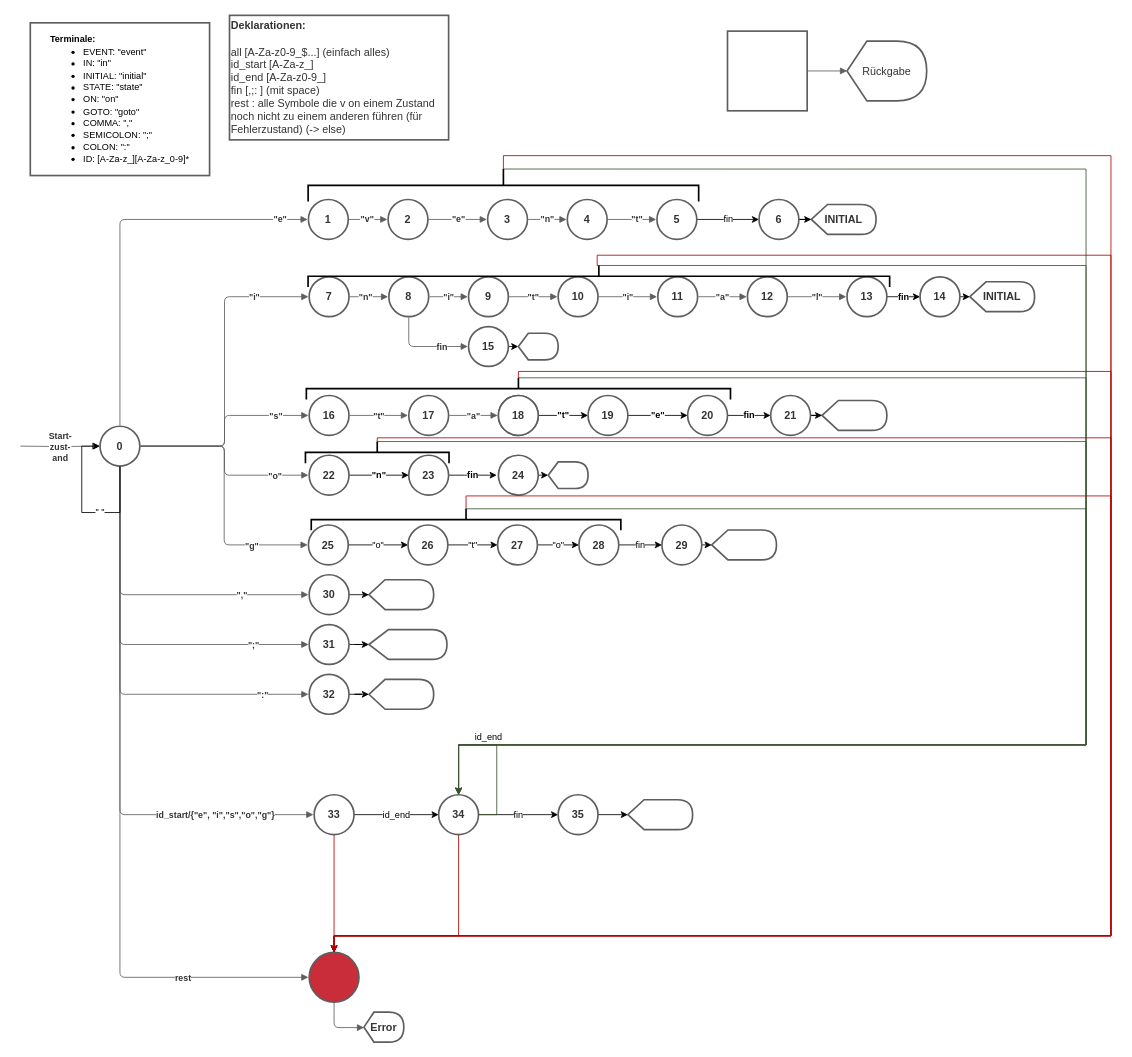
Some shapes in this 1132 by 1057 pixel diagram are drawn without their labels. The box of each missing label's shape, as (x1, y1, x2, y2) in pixels:
10 (Fehler): (308, 951, 359, 1003)
COLON: (368, 678, 434, 710)
COMMA: (368, 579, 434, 610)
Endzustände: (726, 30, 808, 111)
GOTO: (710, 529, 777, 560)
ID (+name): (627, 798, 693, 830)
IN: (517, 332, 559, 360)
ON: (547, 461, 588, 489)
SEMICOLON: (368, 628, 447, 660)
STATE: (821, 399, 887, 431)
